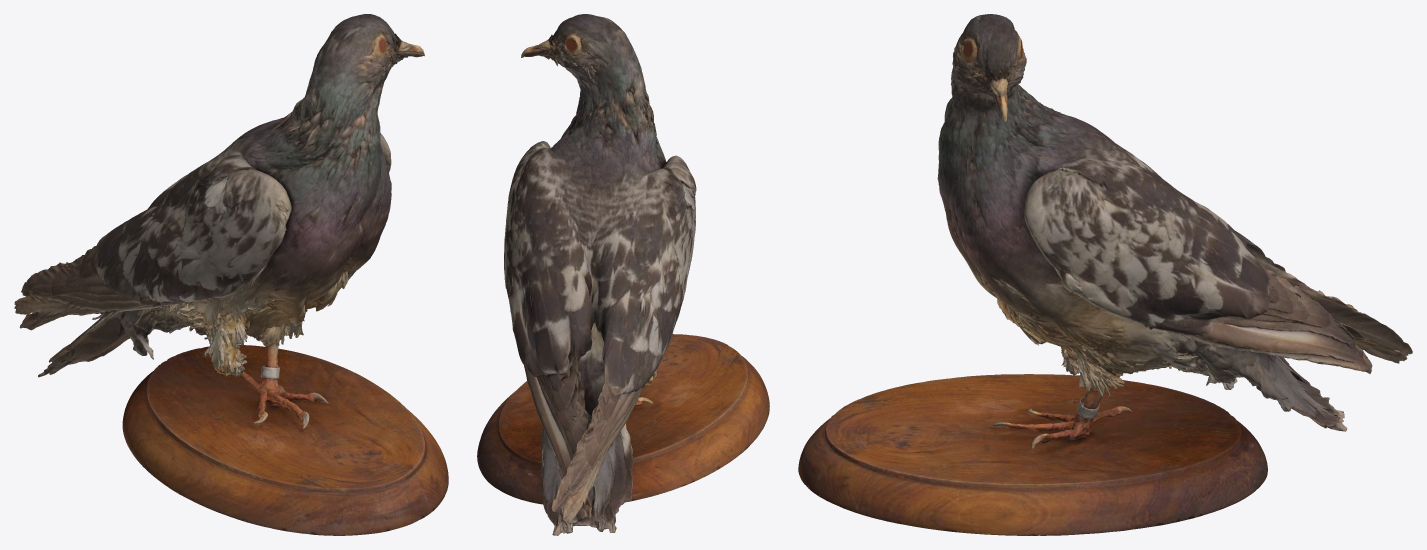
The picture shows the model from 3 angles, left to right: view 1: azimuth 30°, elevation 25°; view 2: azimuth 150°, elevation 25°; view 3: azimuth 270°, elevation 25°; orthographic projection. The views are drawn at different scales.
Visible parts, largest first — view 1: cher_ami; view 2: cher_ami; view 3: cher_ami.
Part boxes in pixels (left/top/right/bottom): cher_ami: left=14, top=14, right=448, bottom=535; cher_ami: left=477, top=14, right=769, bottom=535; cher_ami: left=798, top=14, right=1412, bottom=535.
Bounding box in the file's own units: 4534 × 7534 × 8715.
Materials: 3 (2 with a texture image).
